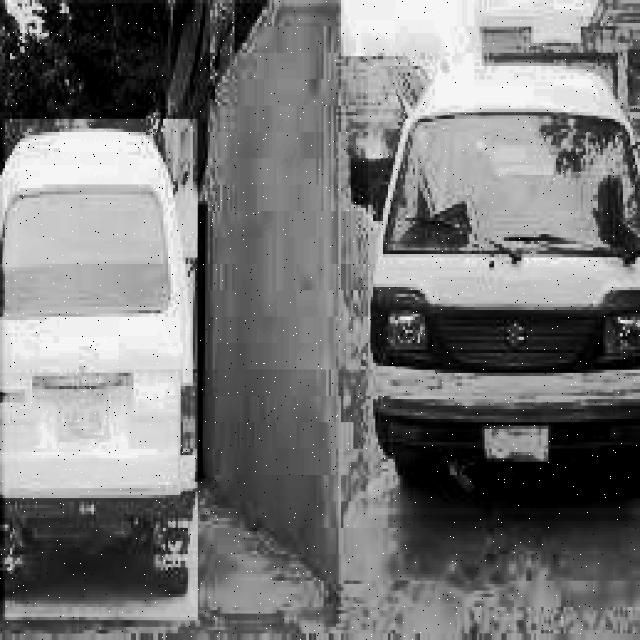LCV: (366, 59, 638, 522), (2, 119, 198, 623)
